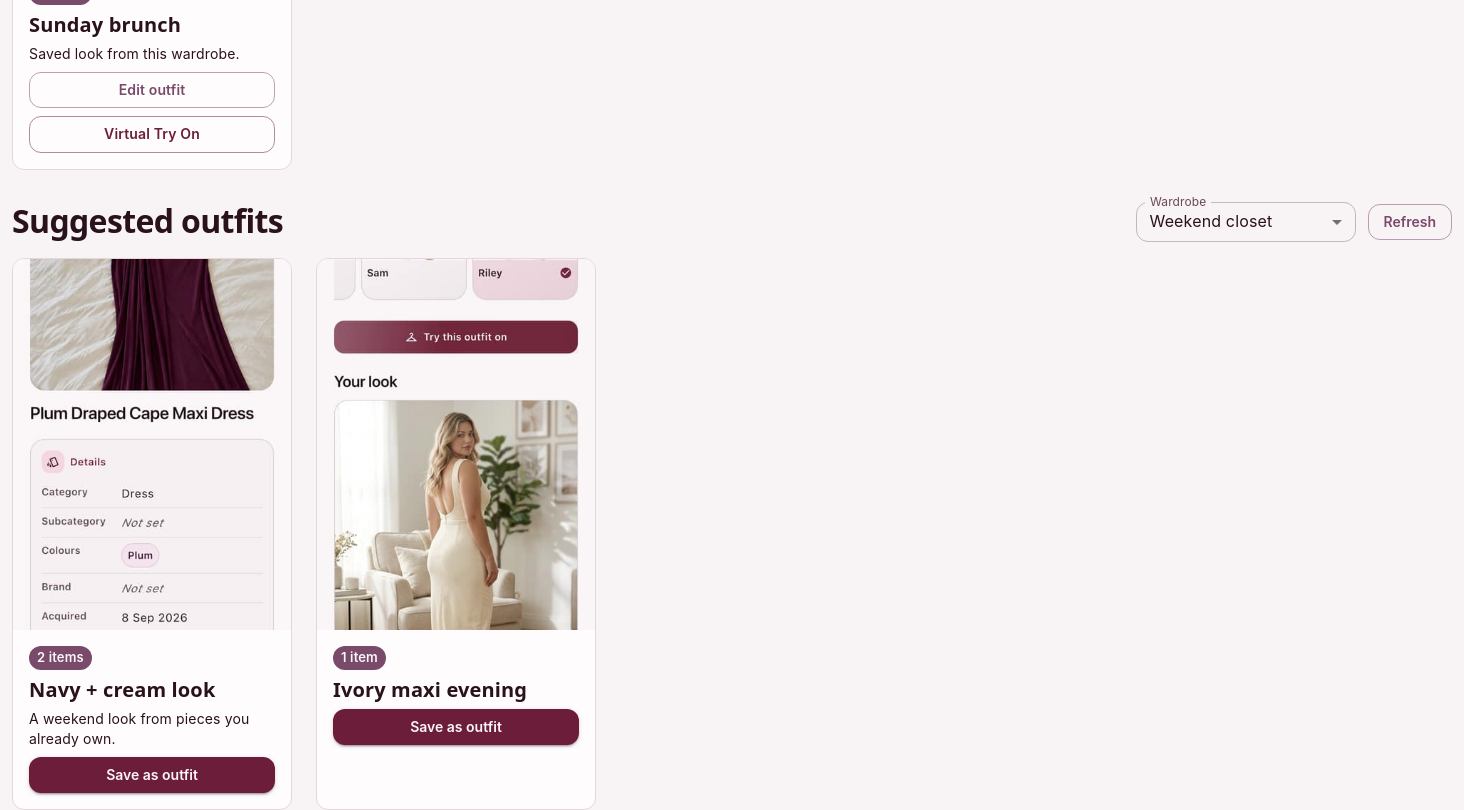
Test: OutfitsPage › shows the outfit-limit paywall when save returns ENTITLEMENT_OUTFIT_LIMIT
(page scrolled)
Step 1. Click the button with aria-label "Save this suggestion as an outfit: Navy + cream look" → {"x": 152, "y": 775}, box [29,757,275,793]
(page scrolled)
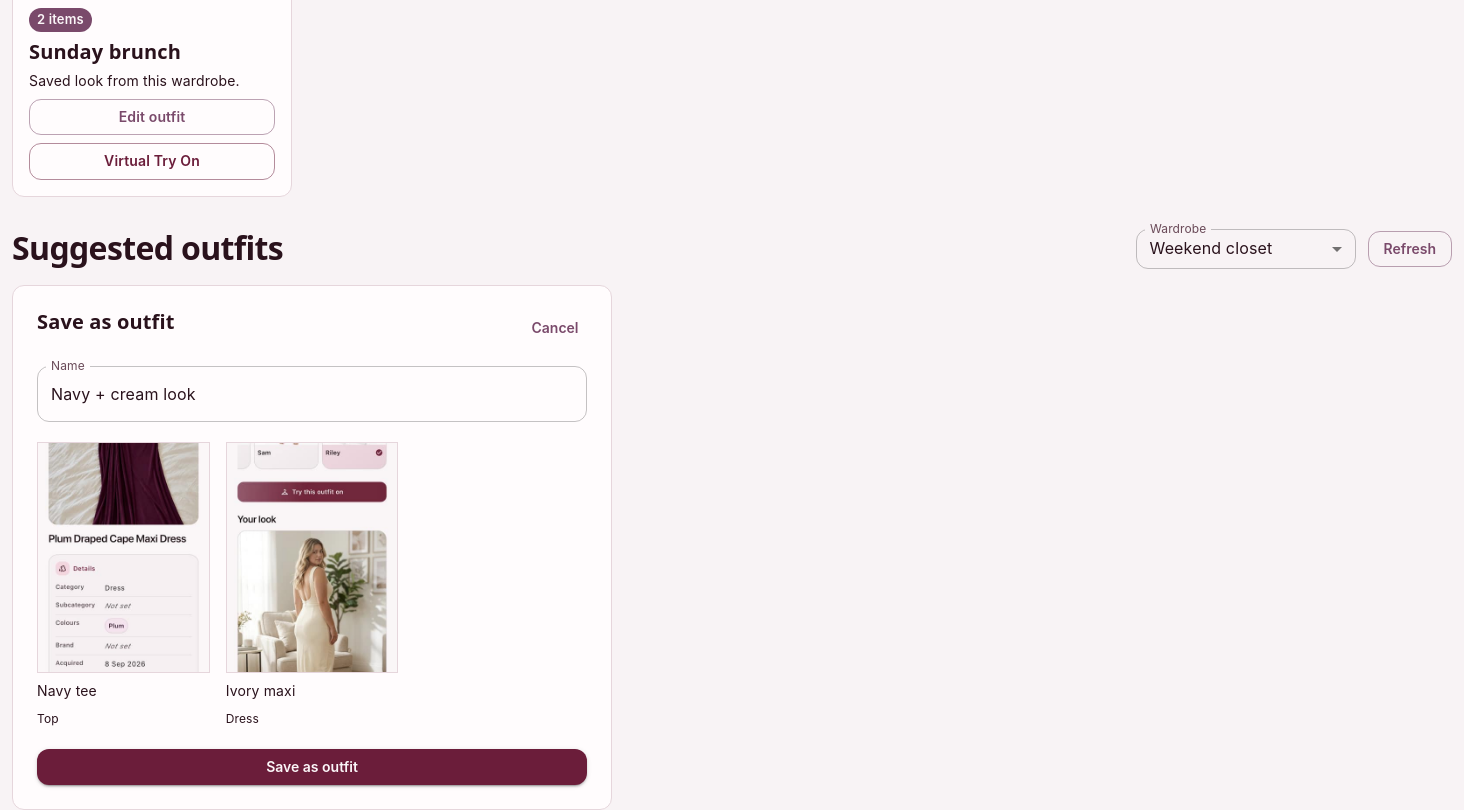
Step 2. Click the button "Save as outfit" → {"x": 312, "y": 767}, box [37,748,587,785]
(page scrolled)
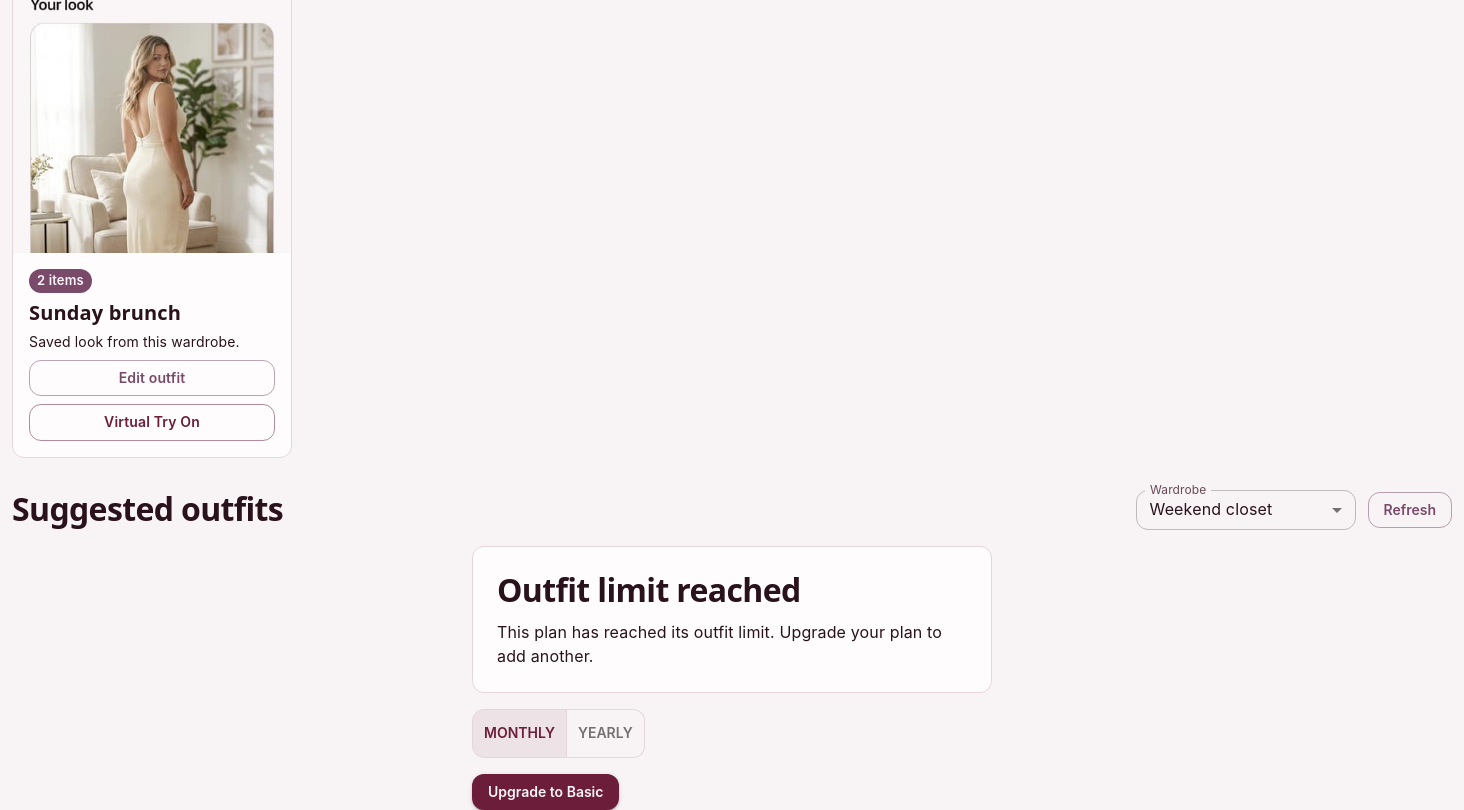
expect the heading "Outfit limit reached" is shown: met, box [497,568,801,611]
expect the button with aria-label "Upgrade to Basic to add more outfits" is shown: met, box [472,774,620,809]
